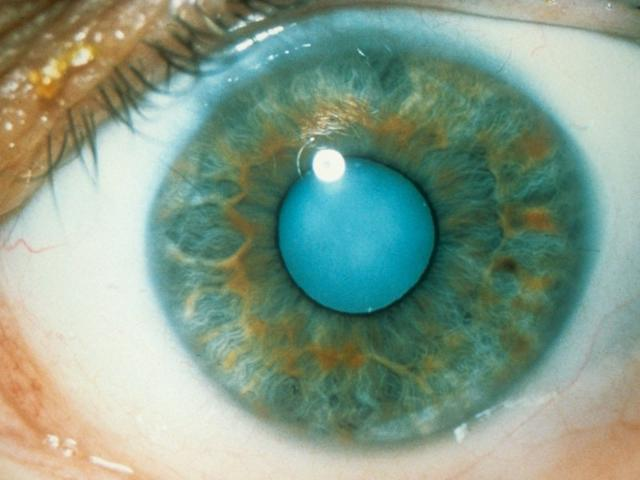eye: (139, 24, 609, 458)
